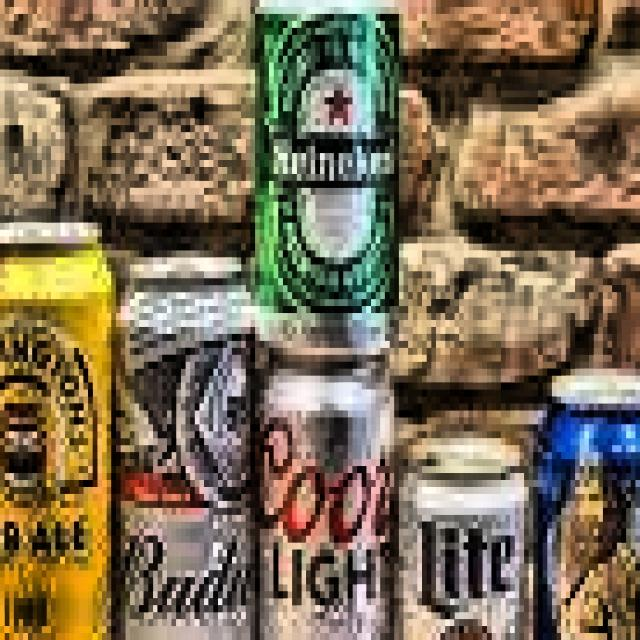metal: (111, 236, 264, 640), (251, 0, 404, 348), (0, 215, 116, 640), (251, 348, 404, 640), (394, 410, 529, 640), (533, 355, 640, 640)
